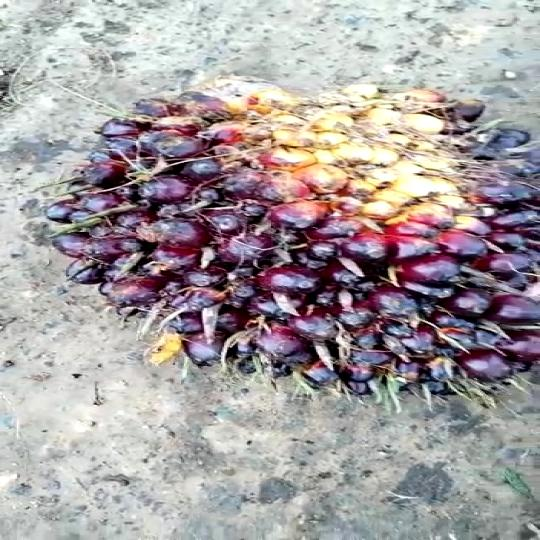mentah: (38, 80, 540, 400)
